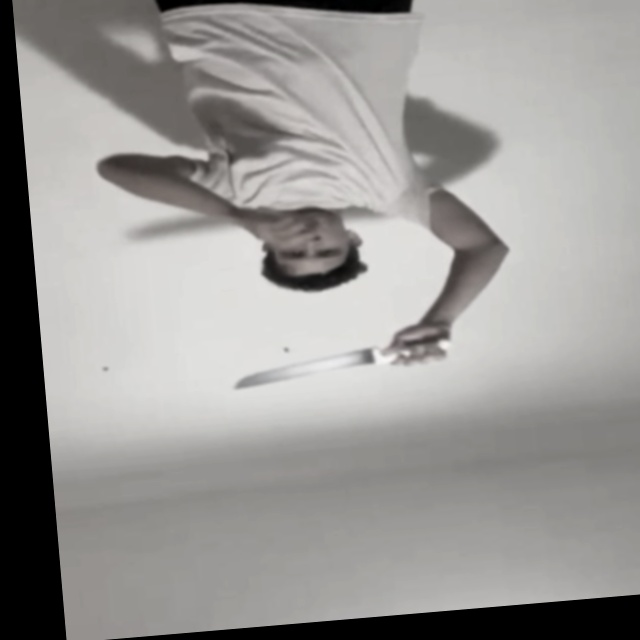Sharp-Object: (226, 350, 375, 393)
